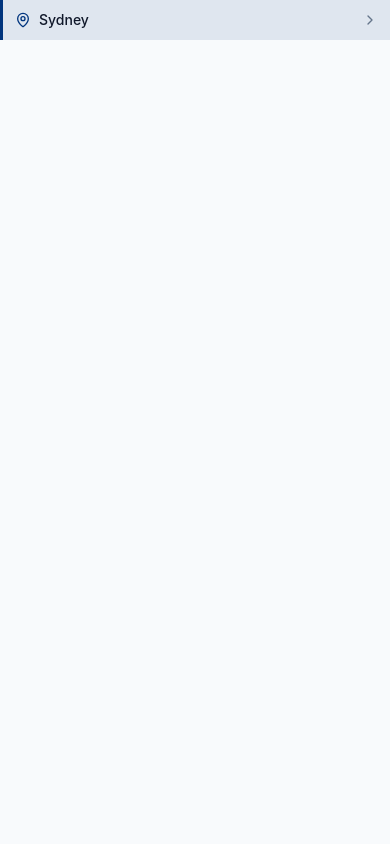
TripRibbon — opens summary › clicking the ribbon opens the summary sheet
Click the button at (64, 20), box [0,0,389,40]
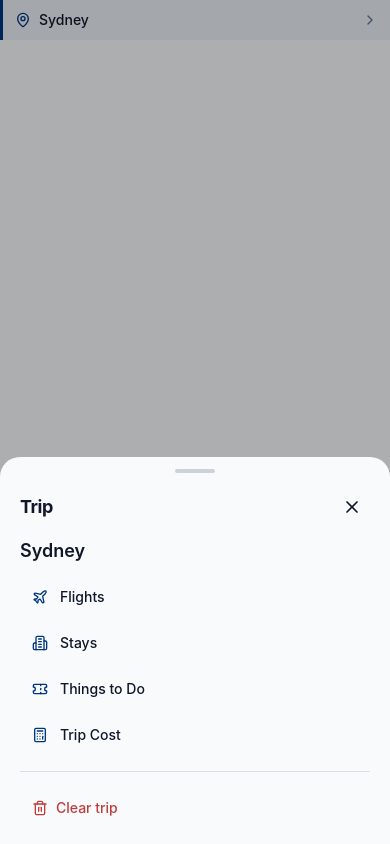
Now the heading "Trip" is shown, box [20,493,53,521]
